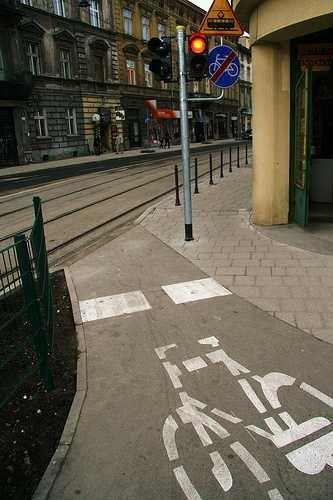red: (182, 26, 212, 81), (188, 34, 209, 55)
